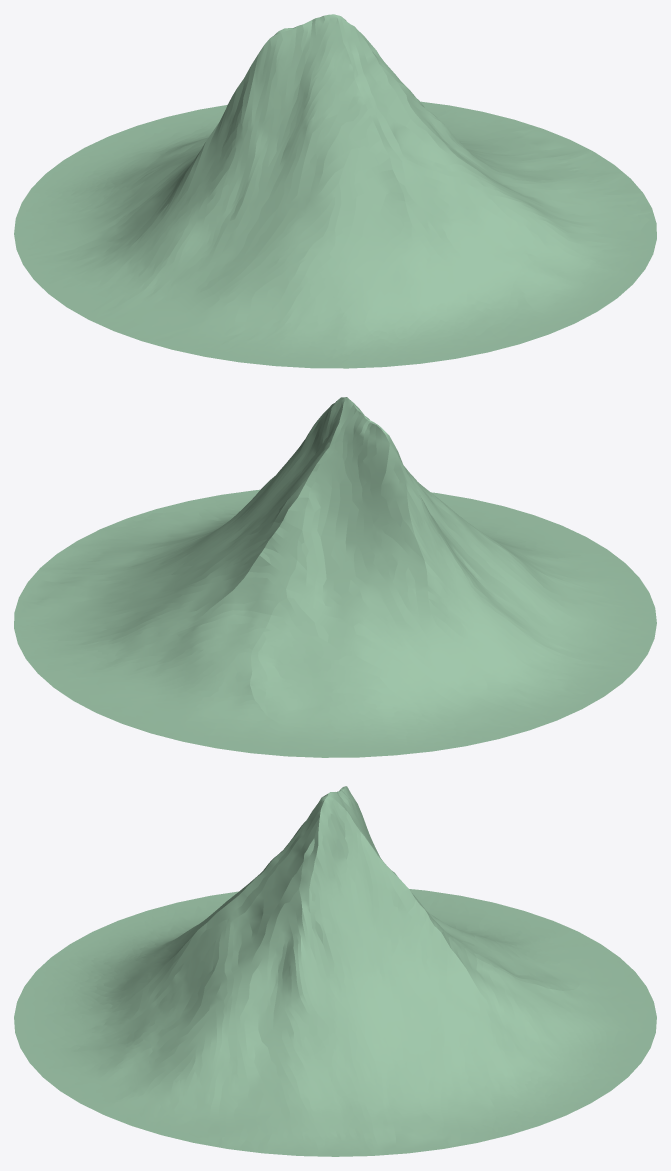
Rendered from volcano_C_small_circle.fbx.
The picture shows the model from 3 angles, top to bottom: view 1: azimuth 30°, elevation 25°; view 2: azimuth 150°, elevation 25°; view 3: azimuth 270°, elevation 25°; orthographic projection.
Visible parts, largest first — view 1: volcano_C_small_circle; view 2: volcano_C_small_circle; view 3: volcano_C_small_circle.
Part boxes in pixels (box(x1,y1,x2,y2)): volcano_C_small_circle: box(14, 14, 656, 368); volcano_C_small_circle: box(14, 397, 656, 757); volcano_C_small_circle: box(14, 786, 656, 1156).
Size of the model in its own units: 7449 by 2853 by 7452.
